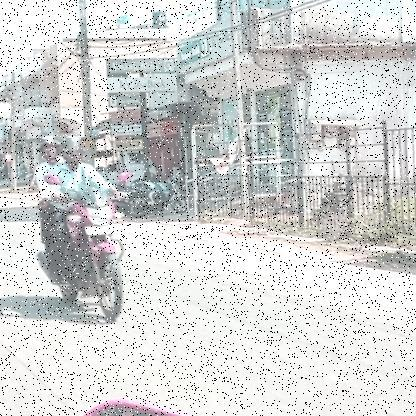motorcycle: (32, 186, 134, 328)
